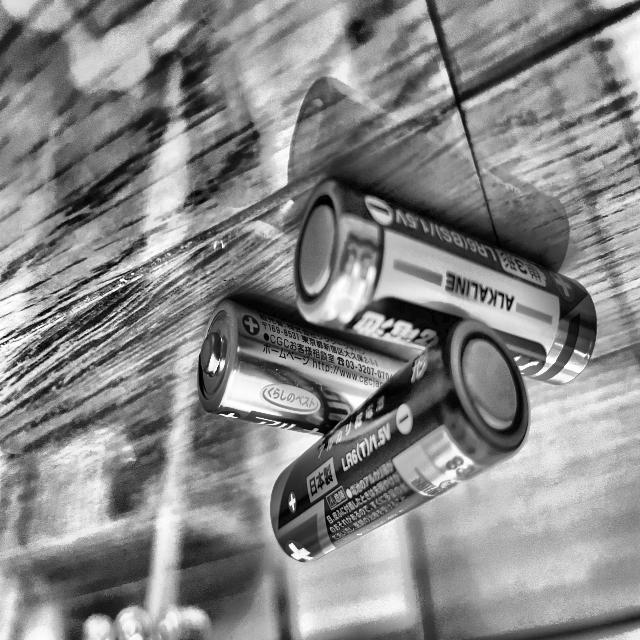drycell: (266, 313, 535, 573), (293, 175, 601, 387)
